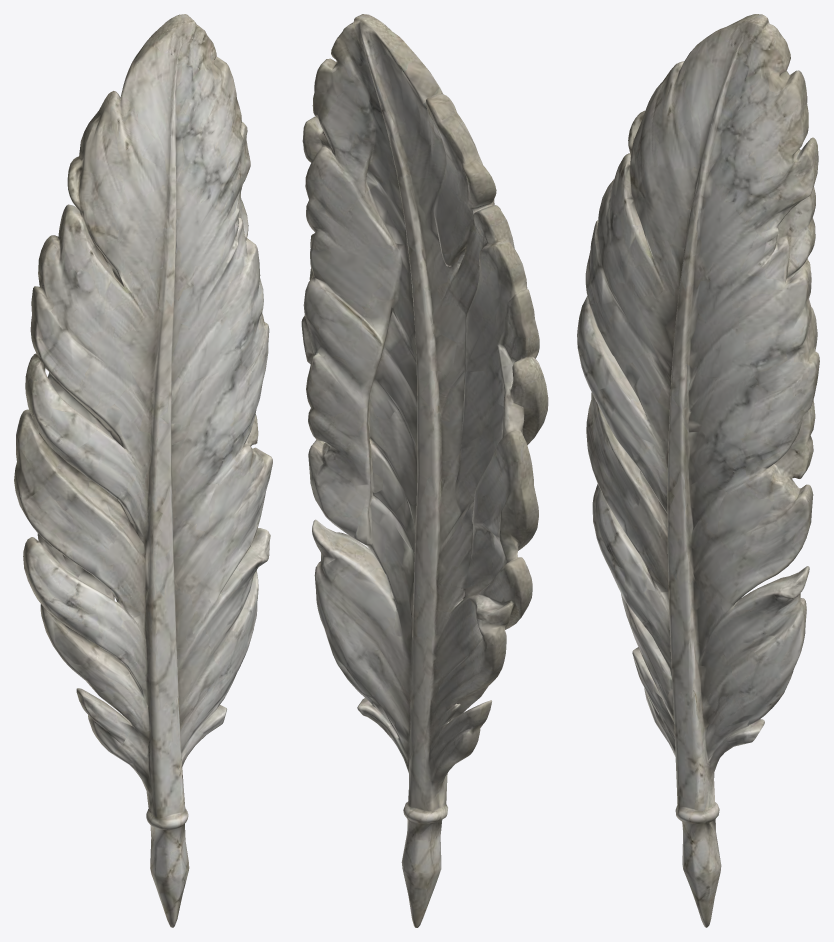
The model's file is blog-pluma.glb.
3 views of the same model, side by side, from view 1: azimuth 30°, elevation 25°; view 2: azimuth 150°, elevation 25°; view 3: azimuth 330°, elevation 25° (orthographic). The views are drawn at different scales.
Bounding box in the file's own units: 0.5301 × 1.9 × 0.1637.
1 material, 1 textured.
